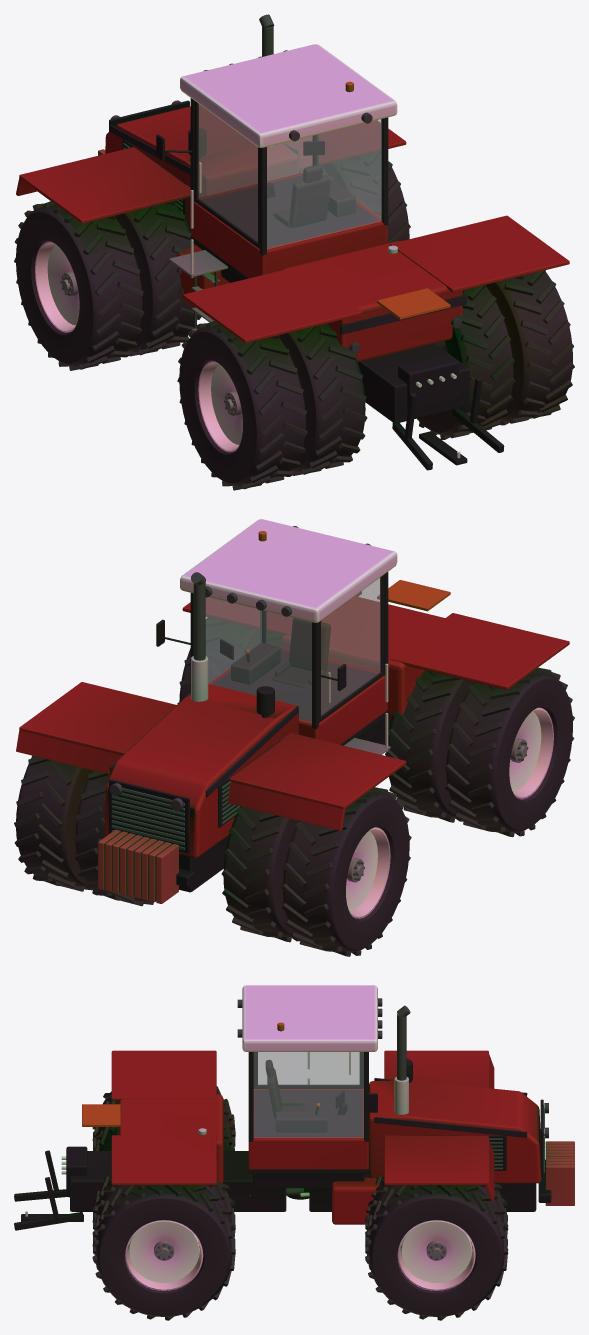
File: tractor.glb
3 renders of one model, top to bottom at view 1: azimuth 30°, elevation 25°; view 2: azimuth 150°, elevation 25°; view 3: azimuth 270°, elevation 25°, orthographic. The views are drawn at different scales.
Parts seen in each view (by area): view 1: tractor_front__m, tractor_rear__m, tractor_wheel_rl__m, tractor_wheel_fl__m, tractor_wheel_rr__m, tractor_front_glass__m, tractor_door__m, tractor_dual__m; view 2: tractor_front__m, tractor_wheel_rl__m, tractor_wheel_fl__m, tractor_rear__m, tractor_front_glass__m, tractor_dual__m, tractor_door__m, tractor_wheel_rr__m; view 3: tractor_front__m, tractor_rear__m, tractor_wheel_rr__m, tractor_dual__m, tractor_front_glass__m, tractor_door__m, tractor_wheel_rl__m.
Boxes of the visible parts, x1,y1,x2,y2 form: tractor_front__m: (16, 14, 406, 330); tractor_rear__m: (182, 215, 569, 470); tractor_wheel_rl__m: (177, 321, 367, 490); tractor_wheel_fl__m: (14, 201, 201, 370); tractor_wheel_rr__m: (417, 270, 574, 439); tractor_front_glass__m: (199, 104, 381, 248); tractor_door__m: (194, 101, 259, 249); tractor_dual__m: (299, 151, 410, 243); tractor_front__m: (16, 519, 406, 903); tractor_wheel_rl__m: (385, 667, 574, 837); tractor_wheel_fl__m: (221, 787, 411, 956); tractor_rear__m: (182, 580, 569, 744); tractor_front_glass__m: (205, 578, 379, 722); tractor_dual__m: (14, 755, 153, 906); tractor_door__m: (319, 574, 384, 722); tractor_wheel_rr__m: (177, 617, 282, 704); tractor_front__m: (237, 985, 574, 1224); tractor_rear__m: (14, 1050, 309, 1230); tractor_wheel_rr__m: (92, 1176, 235, 1320); tractor_dual__m: (365, 1175, 508, 1320); tractor_front_glass__m: (254, 1052, 363, 1137); tractor_door__m: (253, 1052, 363, 1088); tractor_wheel_rl__m: (92, 1086, 235, 1150).
Size of the model in its own units: 4.48 by 4.19 by 8.03.
